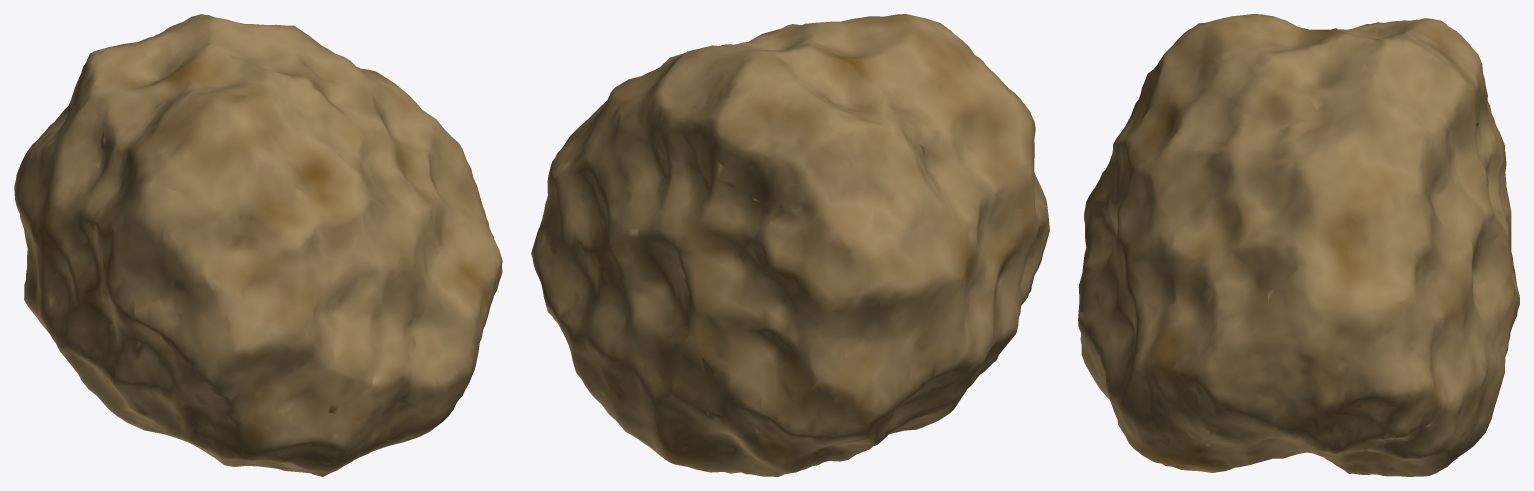
Rendered from Asteroid.fbx.
The picture shows the model from 3 angles, left to right: view 1: azimuth 30°, elevation 25°; view 2: azimuth 150°, elevation 25°; view 3: azimuth 270°, elevation 25°; orthographic projection. The views are drawn at different scales.
Visible parts, largest first — view 1: rock; view 2: rock; view 3: rock.
Part boxes in pixels (x1,y1,x2,y2): rock: [14, 14, 502, 476]; rock: [531, 14, 1049, 476]; rock: [1078, 14, 1519, 476].
Bounding box in the file's own units: 352 × 317 × 318.
Materials: 1 (1 with a texture image).
